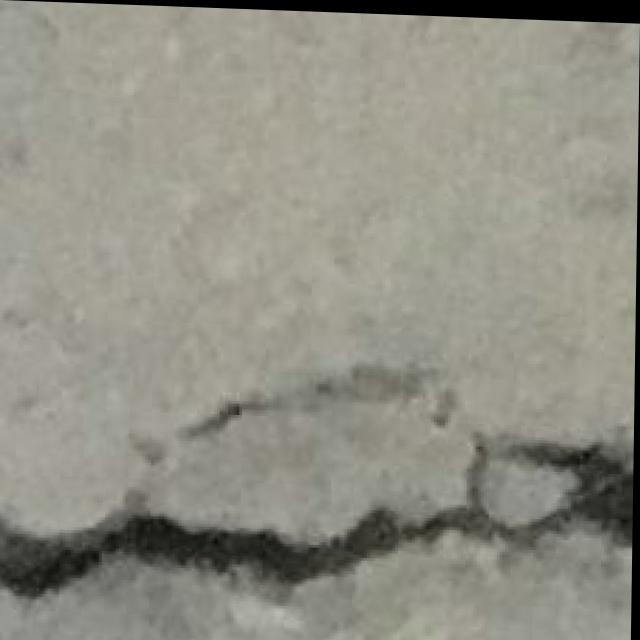Crack: (0, 355, 636, 622)
